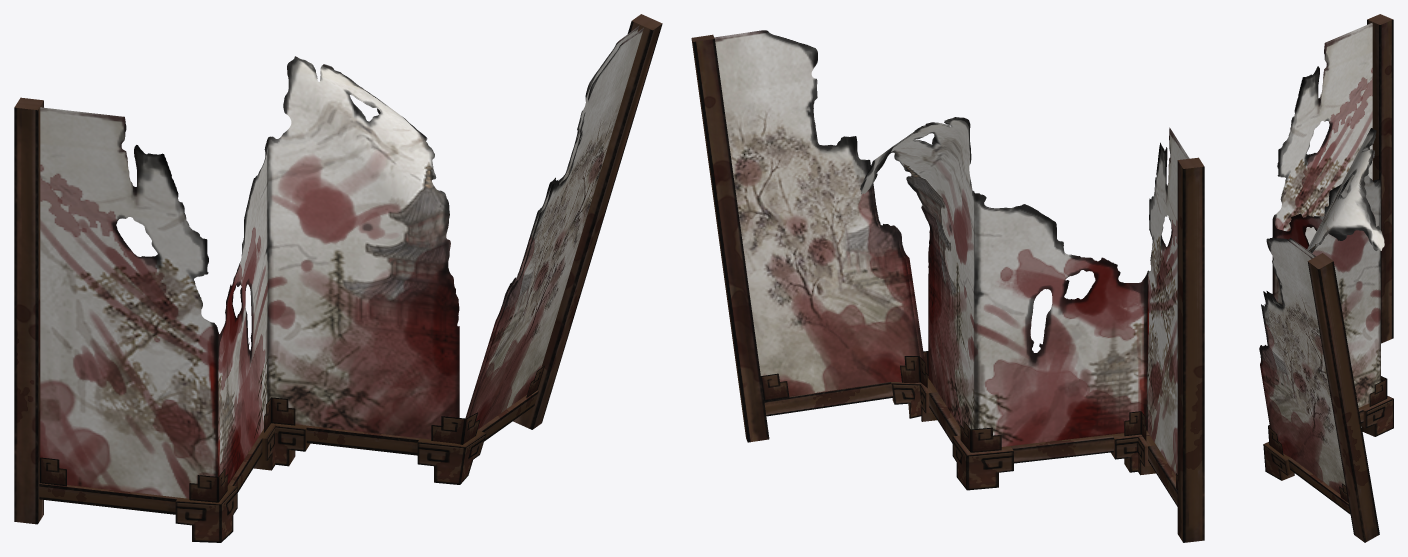
Rendered from PRP_ScreenFoldingBroken.FBX.
The picture shows the model from 3 angles, left to right: view 1: azimuth 30°, elevation 25°; view 2: azimuth 150°, elevation 25°; view 3: azimuth 270°, elevation 25°; orthographic projection. The views are drawn at different scales.
Visible parts, largest first — view 1: PRP_ScreenFoldingBroken; view 2: PRP_ScreenFoldingBroken; view 3: PRP_ScreenFoldingBroken.
Boxes of the visible parts, box(x1,y1,x2,y2) form: PRP_ScreenFoldingBroken: box(14, 14, 662, 542); PRP_ScreenFoldingBroken: box(691, 30, 1204, 542); PRP_ScreenFoldingBroken: box(1259, 14, 1393, 542).
Bounding box in the file's own units: 431 × 294 × 128.
